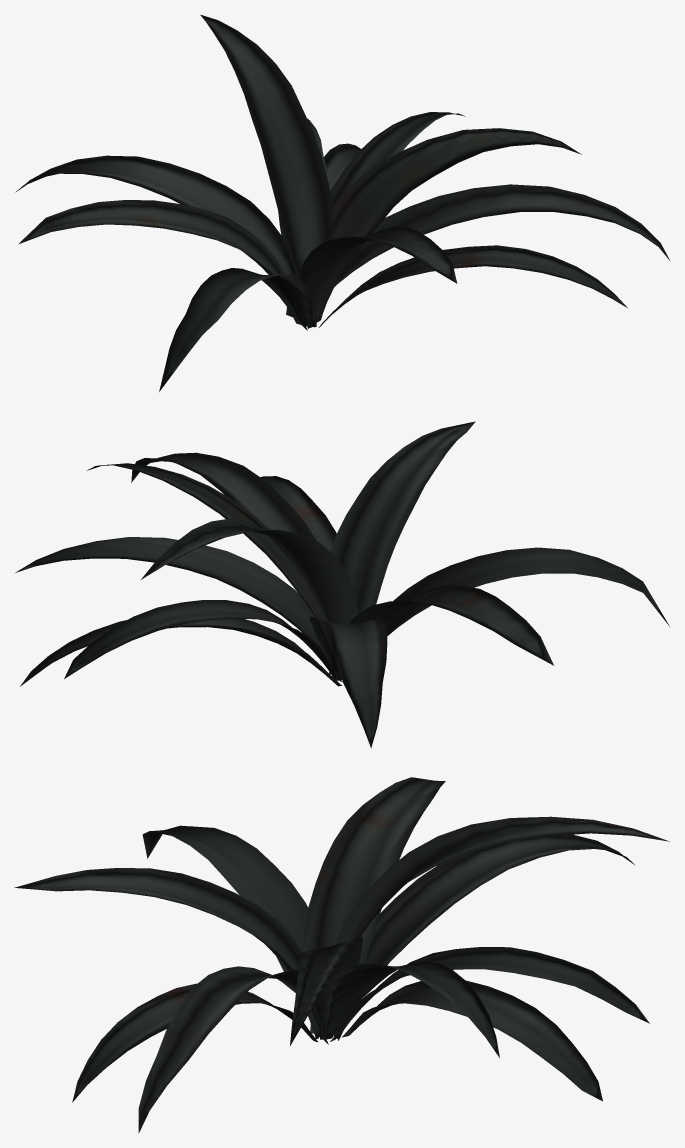
Rendered from cao2.fbx.
The picture shows the model from 3 angles, top to bottom: view 1: azimuth 30°, elevation 25°; view 2: azimuth 150°, elevation 25°; view 3: azimuth 270°, elevation 25°; orthographic projection. The views are drawn at different scales.
Parts seen in each view (by area): view 1: AMcg_Plants_C_003; view 2: AMcg_Plants_C_003; view 3: AMcg_Plants_C_003.
Part boxes in pixels (x1,y1,x2,y2): AMcg_Plants_C_003: (15,14,670,391); AMcg_Plants_C_003: (15,421,669,747); AMcg_Plants_C_003: (14,777,669,1133).
Size of the model in its own units: 1.63 by 0.5949 by 1.54.
Materials: 1 (1 with a texture image).
